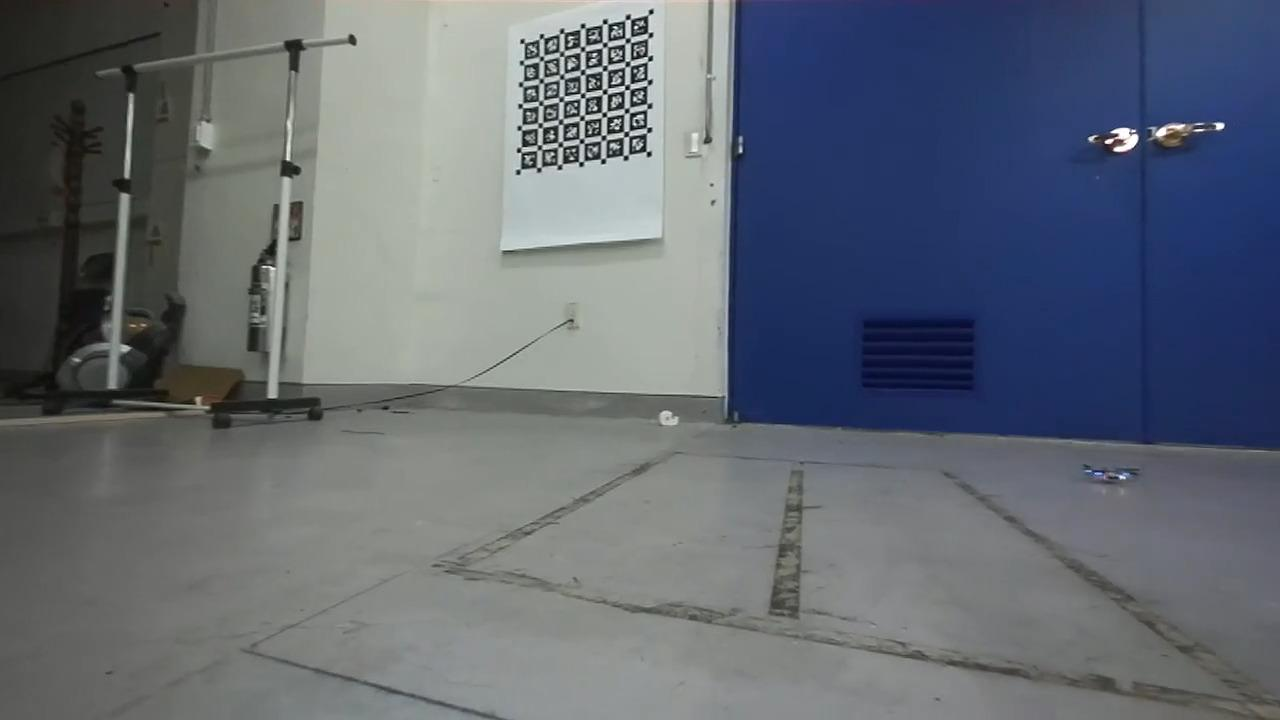crazyflie: (1078, 460, 1146, 491)
